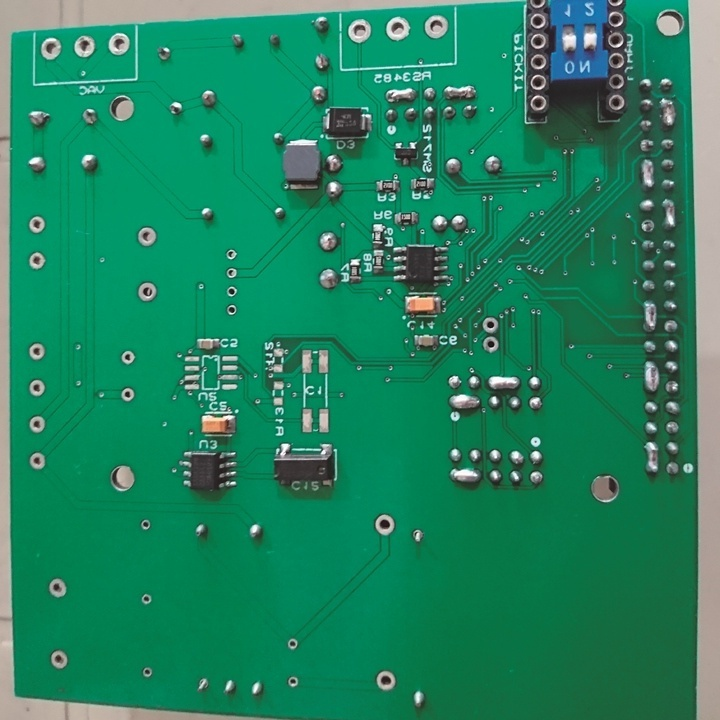F: (384, 15, 413, 44), (421, 11, 450, 40), (345, 18, 375, 44), (70, 32, 97, 60), (39, 35, 65, 63), (104, 31, 133, 56), (133, 224, 160, 250), (372, 511, 396, 540), (134, 280, 159, 303), (374, 667, 396, 693), (45, 578, 70, 600), (25, 250, 48, 273), (48, 647, 70, 671), (27, 413, 47, 438), (27, 341, 48, 364), (27, 450, 49, 471), (481, 332, 501, 355), (25, 215, 47, 235), (27, 378, 47, 398), (527, 469, 547, 489), (193, 673, 211, 695), (664, 375, 681, 398), (481, 314, 500, 334), (639, 218, 660, 236), (664, 417, 681, 439), (118, 350, 136, 369), (117, 386, 136, 403), (661, 319, 681, 335), (664, 460, 681, 478), (447, 372, 463, 390), (410, 525, 424, 545), (527, 395, 544, 411), (284, 636, 299, 653), (285, 672, 299, 690), (139, 518, 153, 535), (139, 590, 152, 608), (224, 283, 239, 298), (224, 264, 238, 280), (225, 302, 238, 317), (224, 246, 236, 262), (139, 666, 153, 679)
P: (641, 357, 663, 395), (485, 372, 522, 394), (641, 438, 661, 477), (440, 83, 479, 103), (657, 95, 678, 131), (658, 194, 678, 230), (638, 155, 657, 191), (383, 86, 419, 105), (450, 466, 481, 488), (447, 392, 482, 411), (642, 297, 659, 332)
